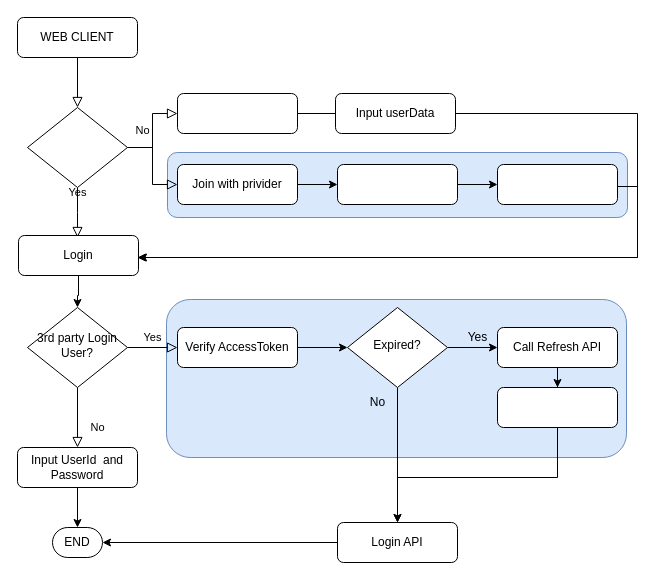
This 663x580 diagram has some shape labels left out. Here are the shapes that lost their labels. From the top down, the box of each, then its label:
(176, 92, 298, 134): Join in web
(26, 106, 128, 188): Do you have a userId?
(336, 164, 458, 204): Call Auth API
(496, 164, 618, 204): Get AccessToken and RefreshToken
(496, 386, 618, 428): Get AccessToken
